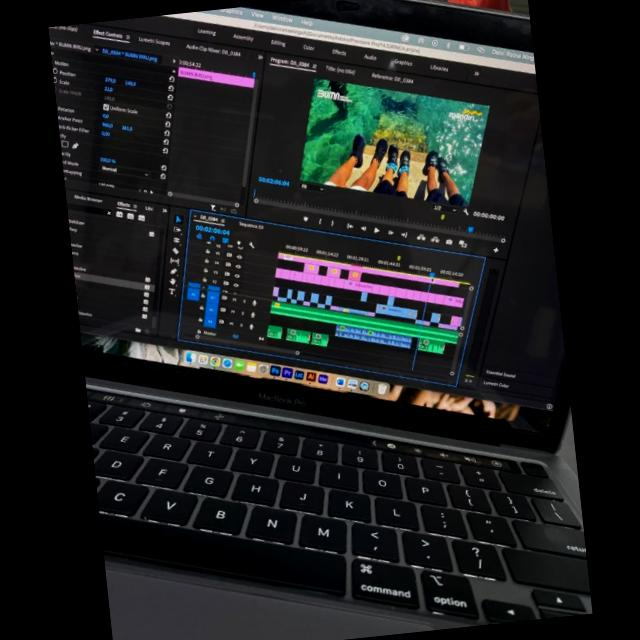laptop: (56, 0, 591, 640)
